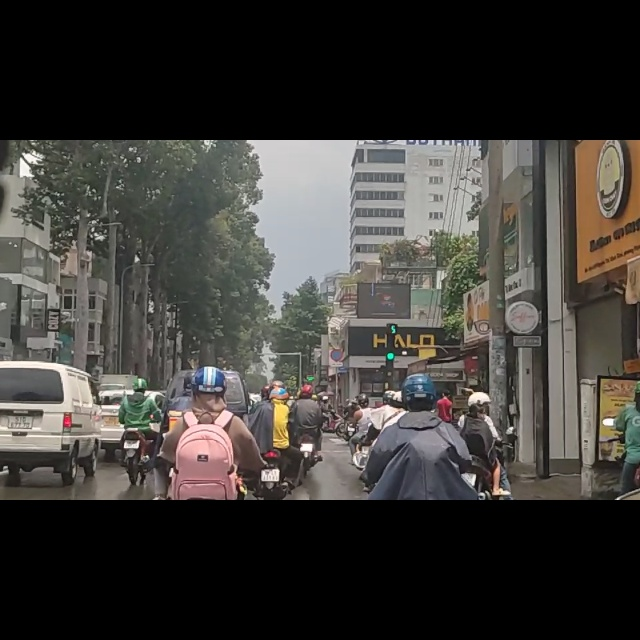bien_cam: (329, 370, 345, 397)
